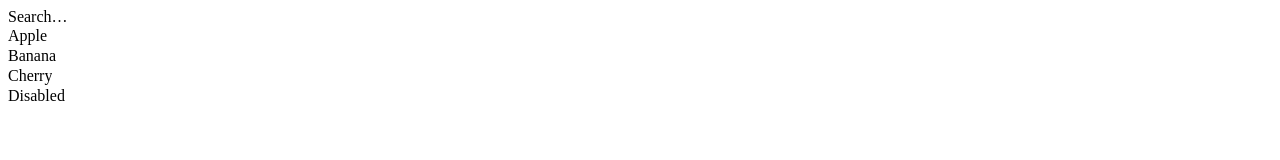
Test case: CoarListbox › filters by label using searchFields=[label] (default)
In the field with placeholder "Search…": point(632, 17) [8,8,1256,26], type "ban"
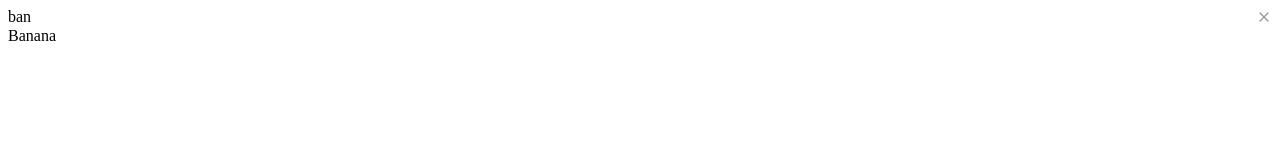
Expected: the option with class "coar-listbox-item" reads "Banana", [8,27,56,44]
Now the number of options with class "coar-listbox-item" is 1, box [8,27,56,44]
